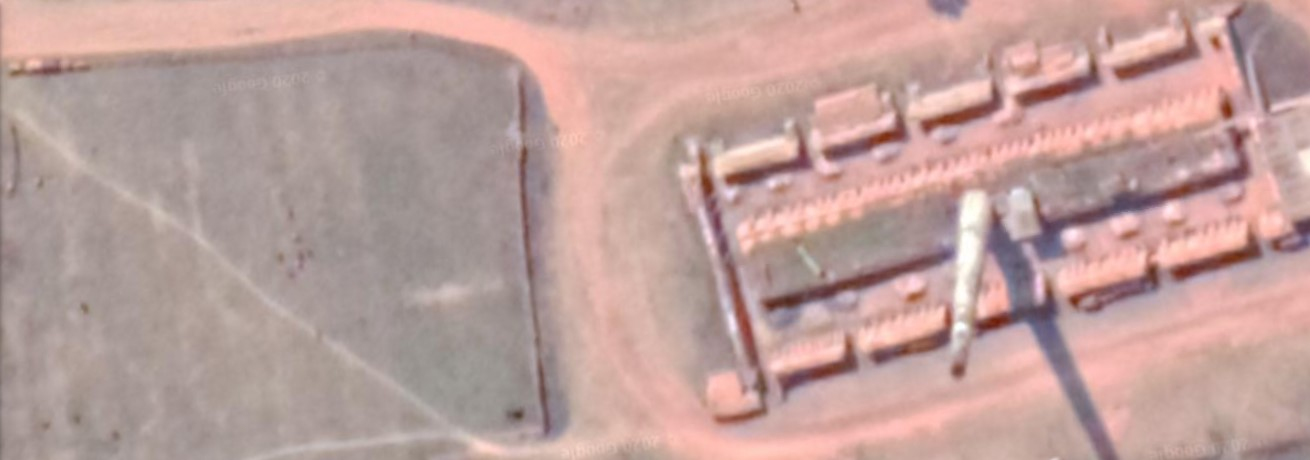kiln: (631, 61, 1306, 439)
